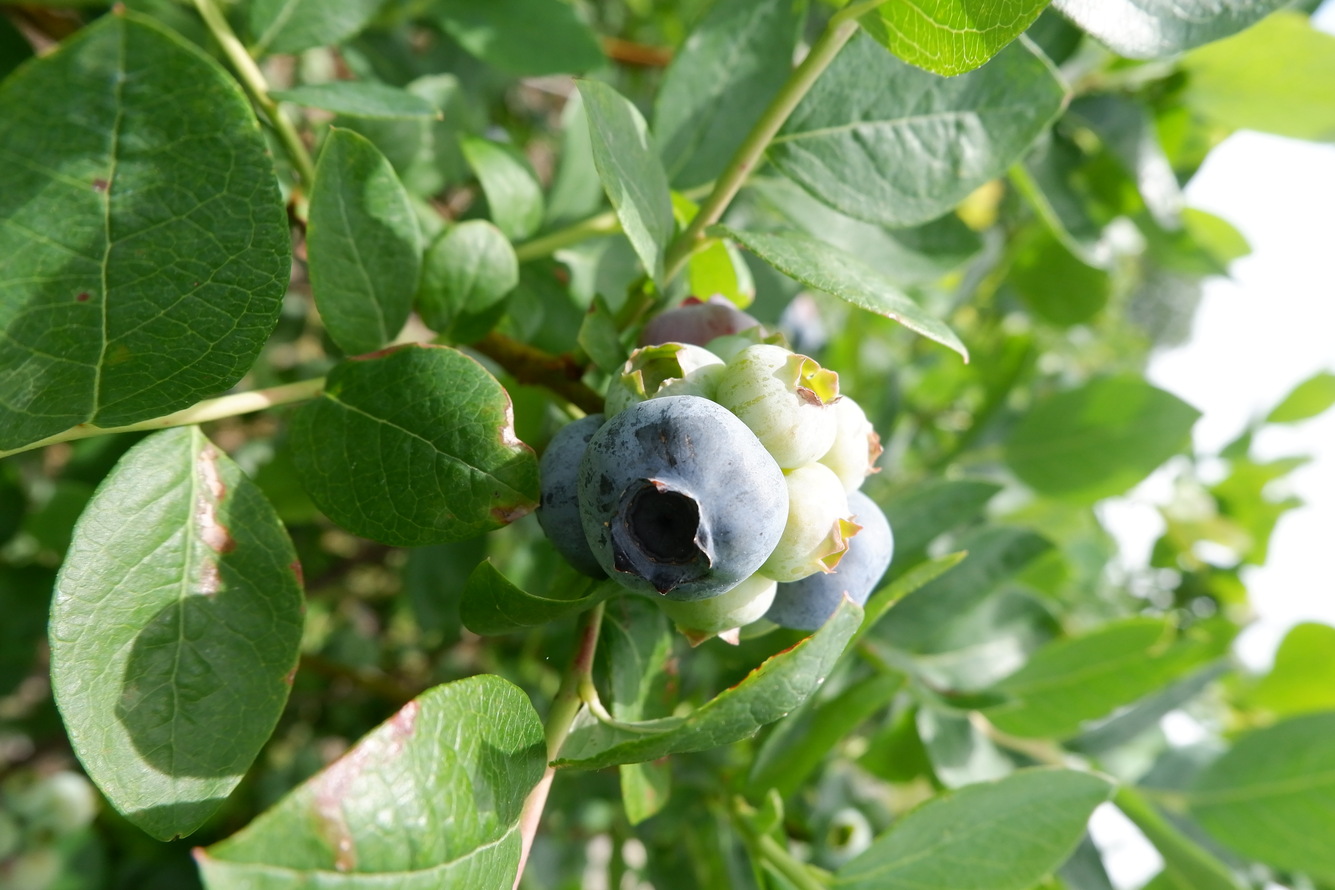Immature: (720, 343, 837, 467), (761, 466, 850, 579), (605, 344, 724, 422), (660, 573, 775, 645), (640, 296, 762, 346), (819, 398, 880, 488), (703, 330, 760, 363)
Mature: (583, 399, 791, 596), (764, 487, 894, 635), (537, 417, 610, 576)
